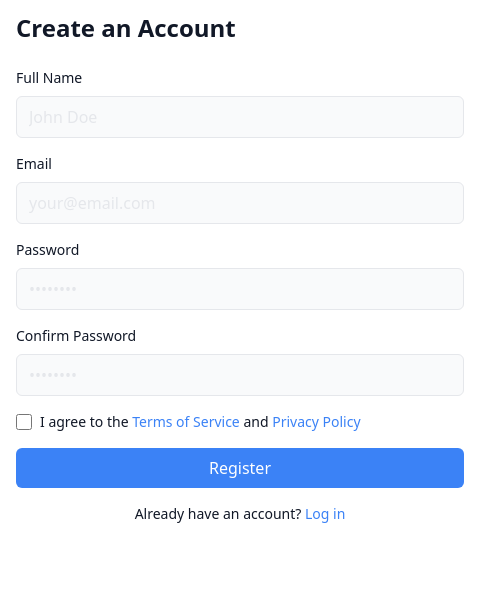
Scenario: RegisterForm › shows error message on registration failure
This screenshot has width=481, height=606.
# Fill out the form
In the field labelled "Full Name": point(240, 117) [16,96,464,138], type "Test User"
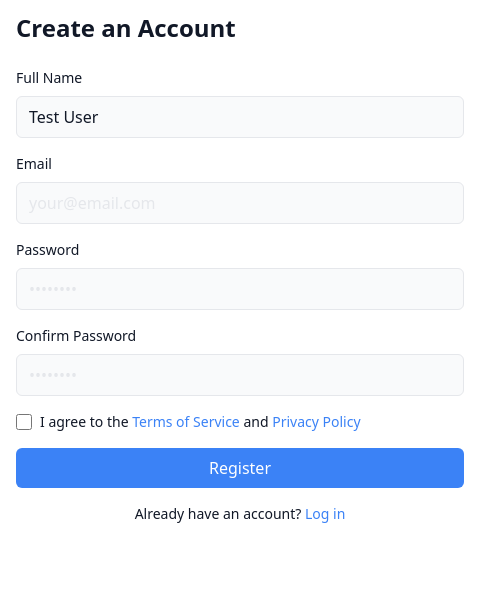
In the field labelled "Email": point(240, 203) [16,182,464,224], type "test@example.com"
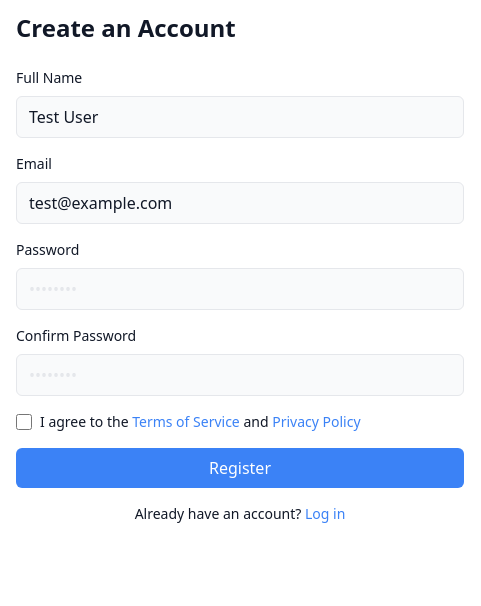
In the password field labelled "Password": point(240, 289) [16,268,464,310], type "Password123!"
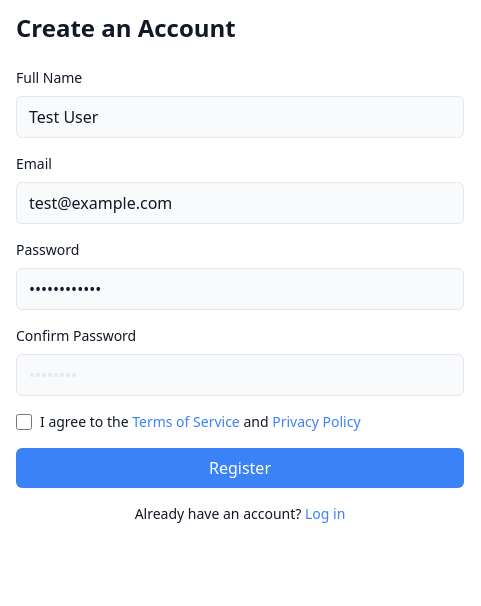
In the password field labelled "Confirm Password": point(240, 375) [16,354,464,396], type "Password123!"
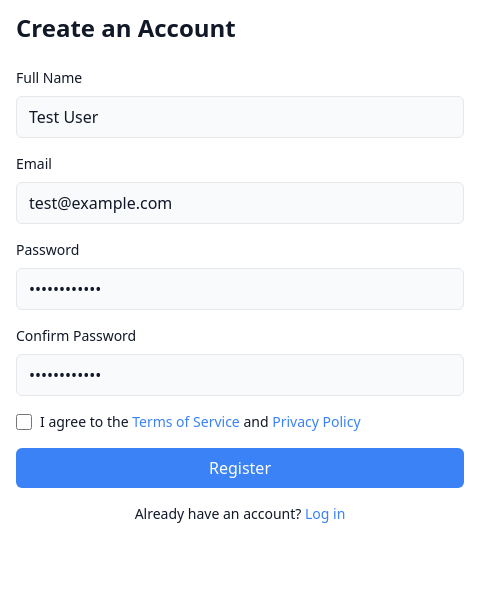
Click the checkbox labelled "I agree to the Terms of Service and Privacy Policy": point(24, 422) [16,414,32,430]
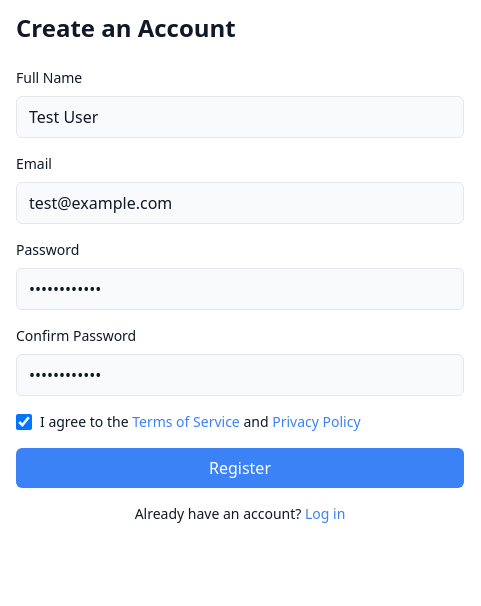
# Submit the form
Click the button "Register": point(240, 468) [16,448,464,488]
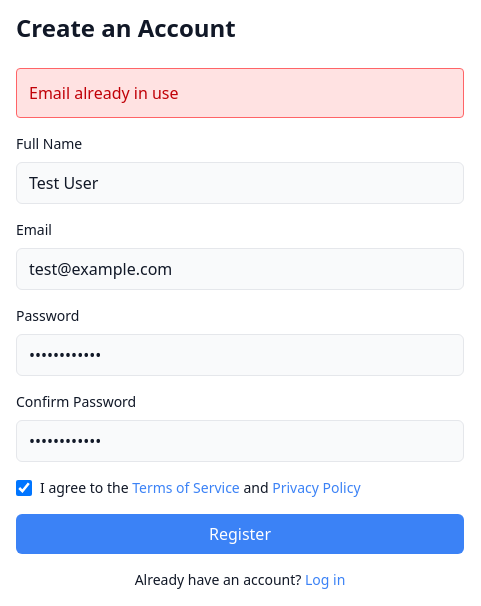
Check: the text "Email already in use" is shown, box [29,82,179,104]
